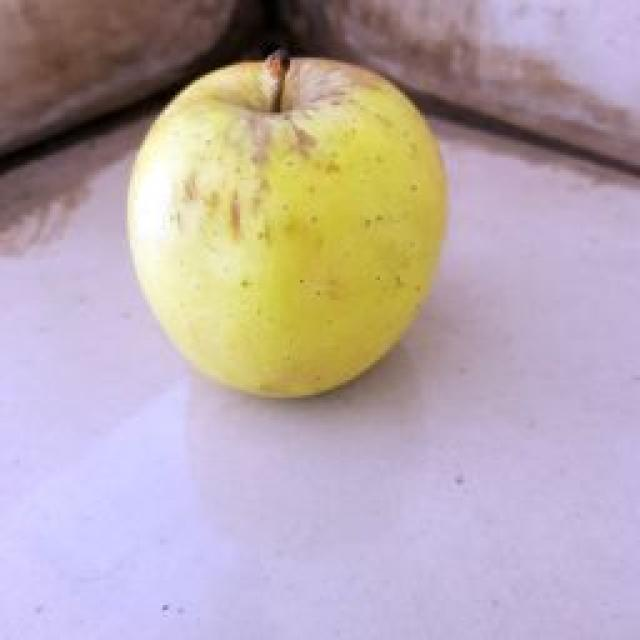Good_Apple: (128, 52, 446, 397)
